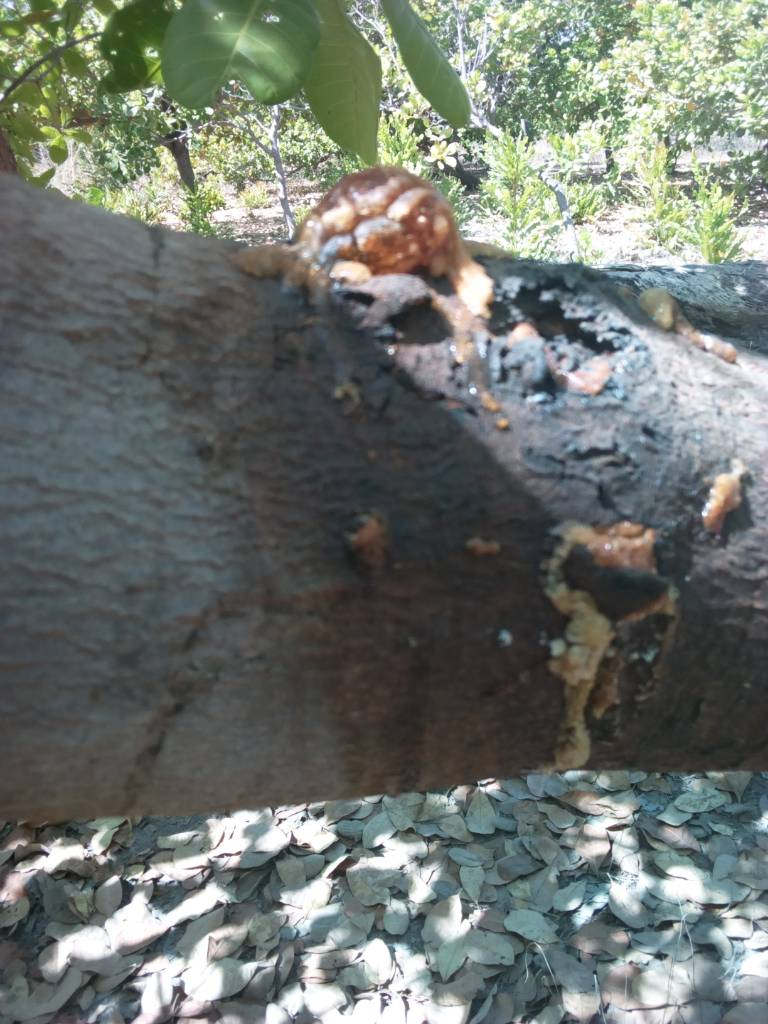Gommose: (280, 186, 740, 785)
